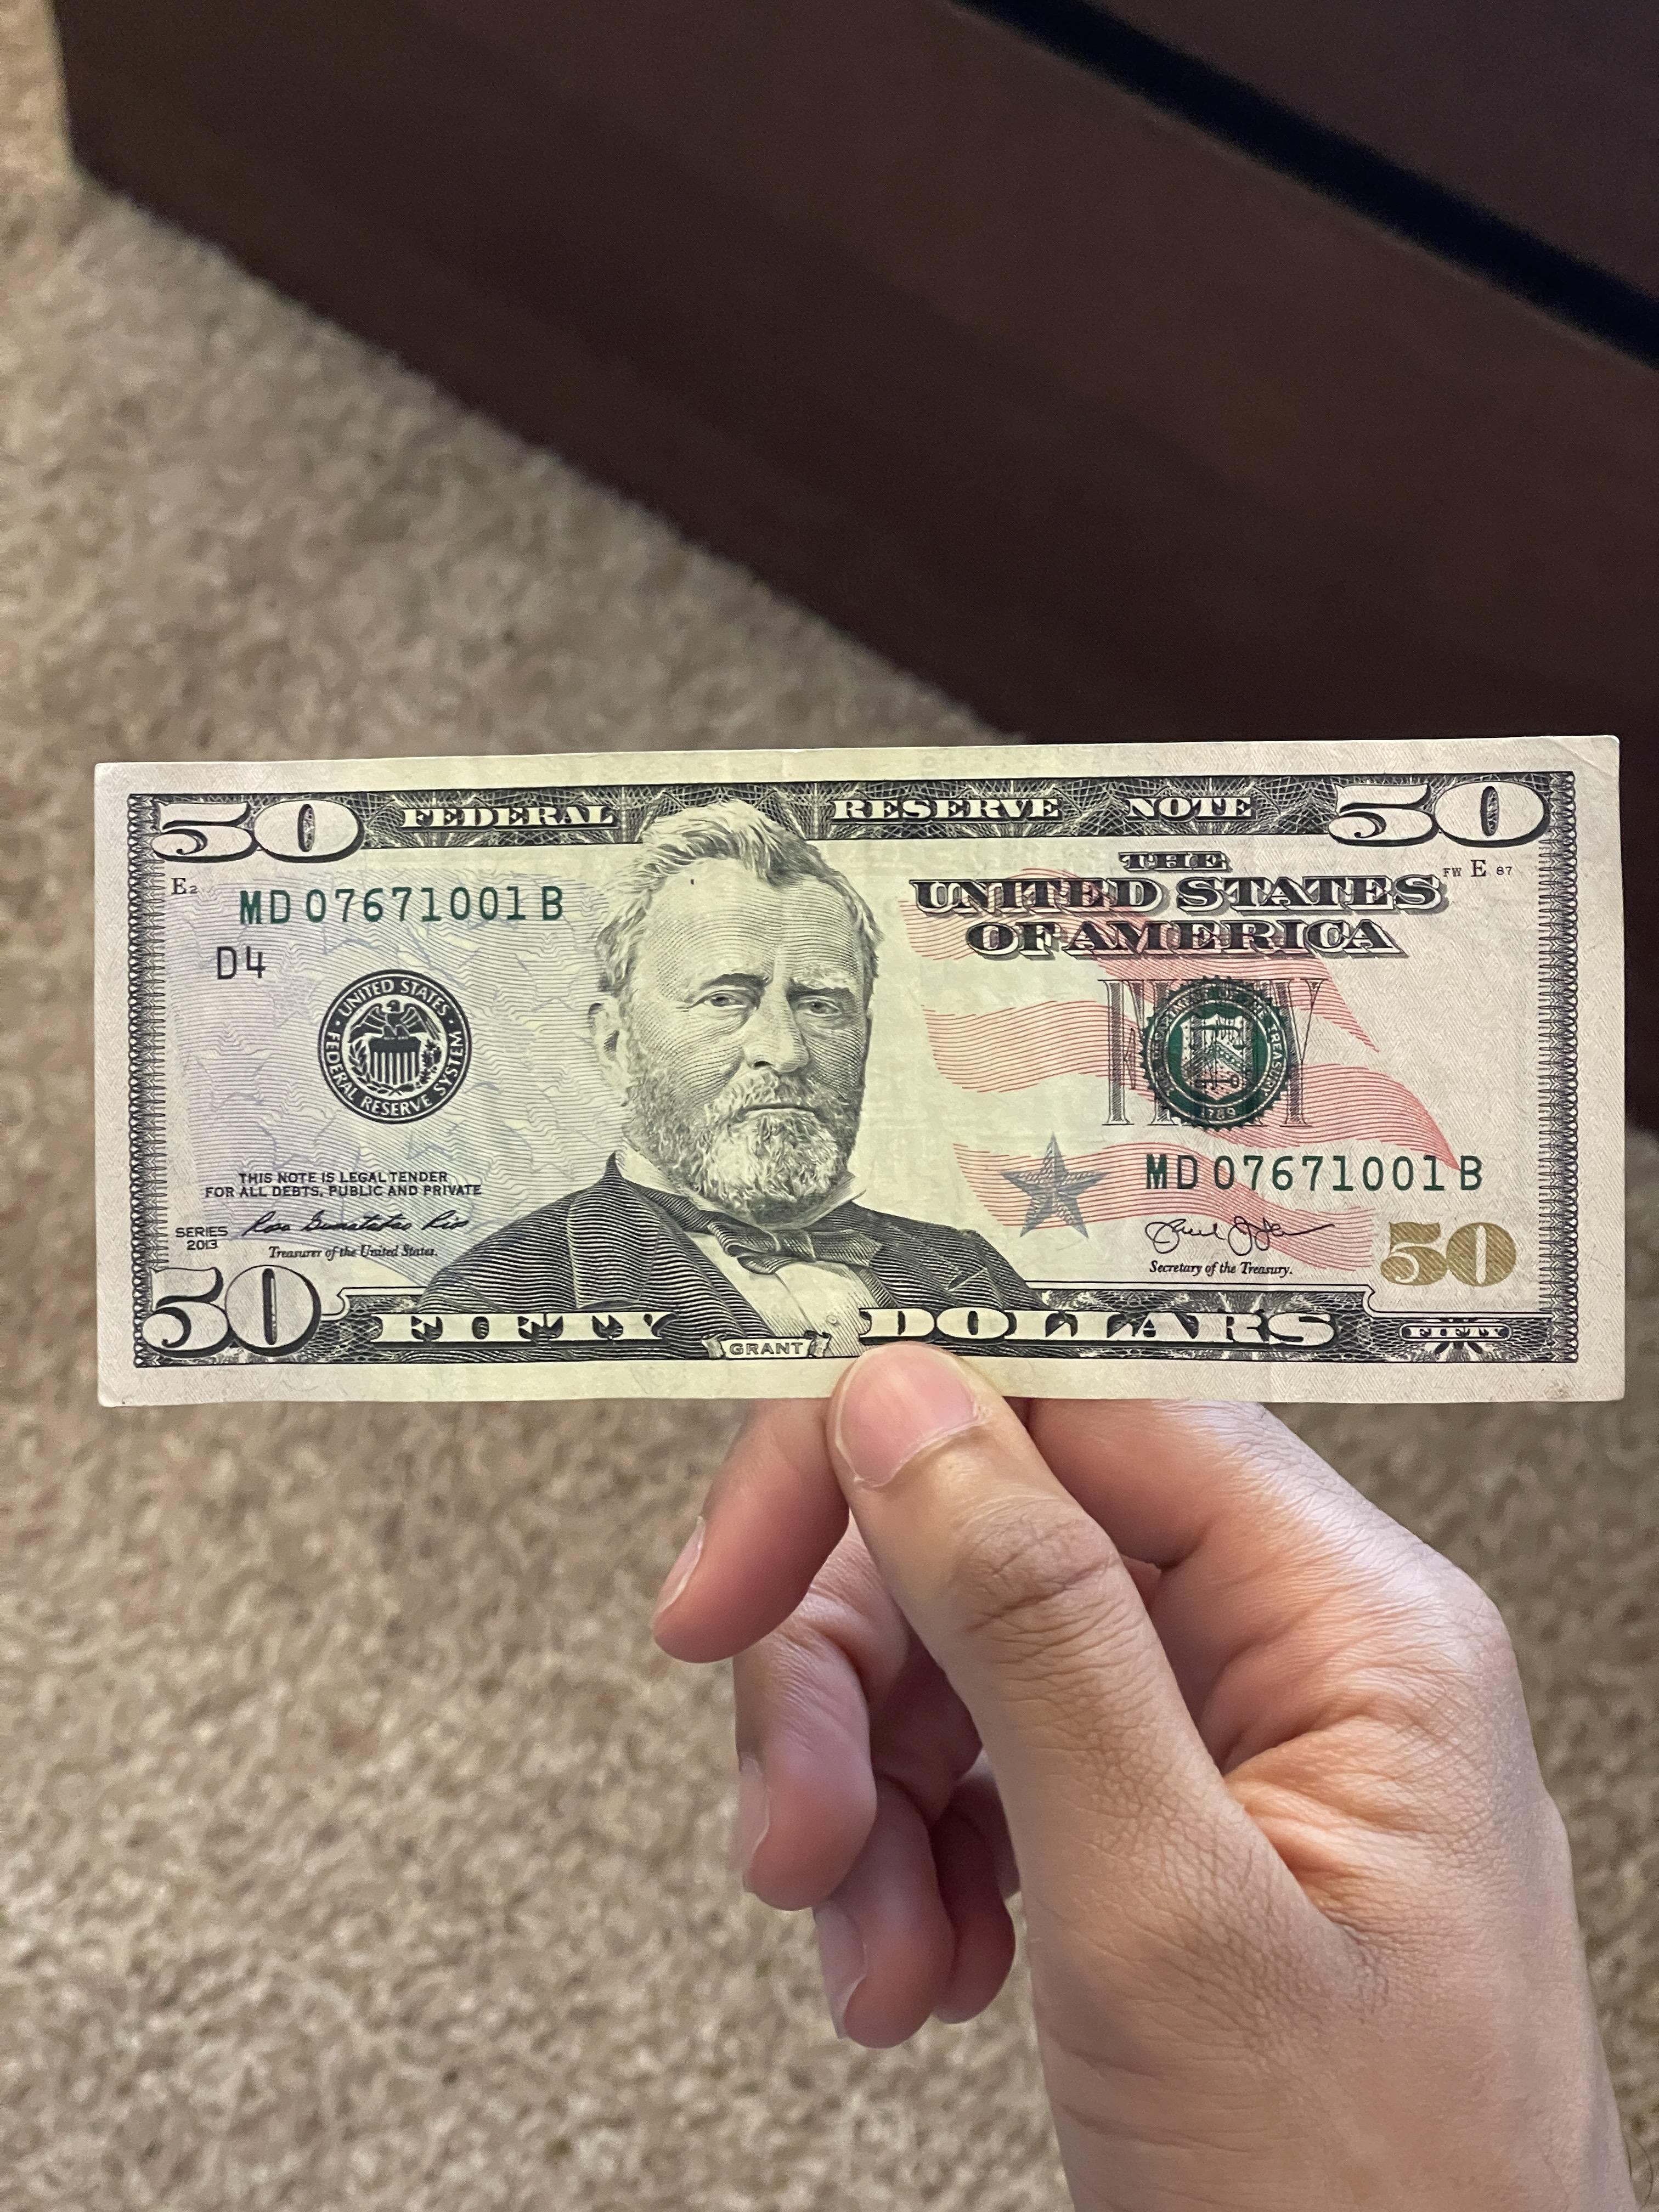FiftyBill: (85, 728, 1635, 1411)
